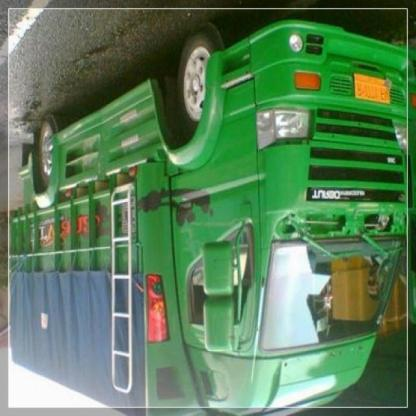truck: (8, 19, 416, 416)
